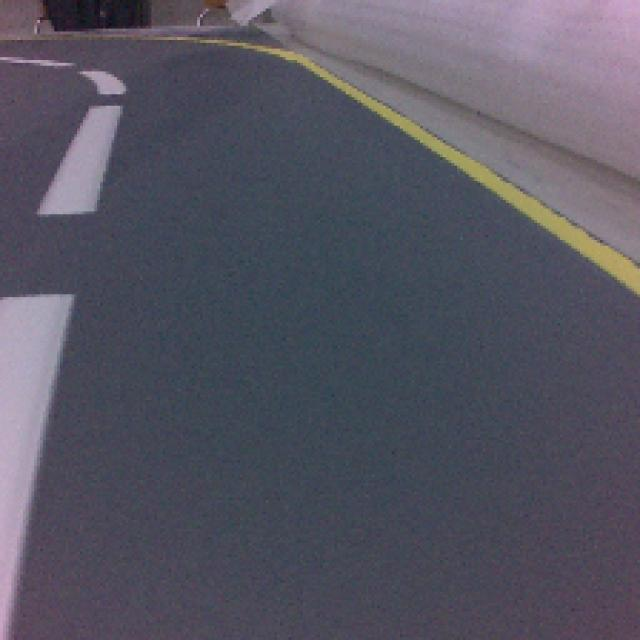Road: (7, 388, 640, 640)
